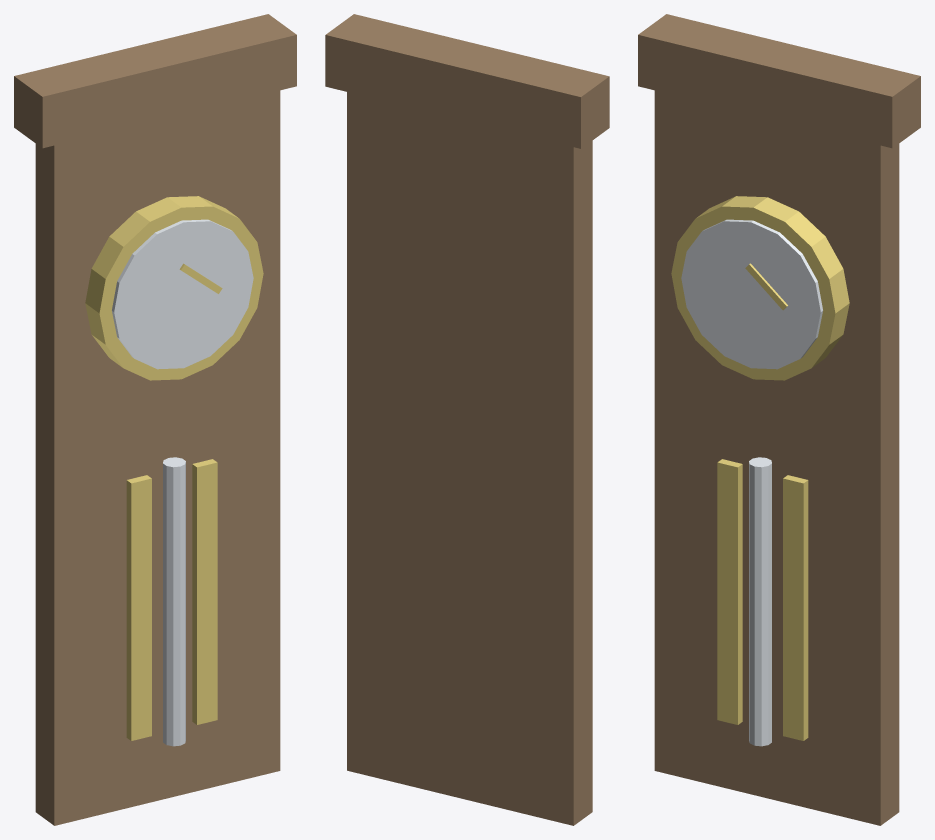
Rendered from barometer_station.glb.
3 views of the same model, side by side, from view 1: azimuth 30°, elevation 25°; view 2: azimuth 150°, elevation 25°; view 3: azimuth 330°, elevation 25° (orthographic).
Parts seen in each view (by area): view 1: Cube, Cube.001, Cylinder.001, Cylinder, Cube.003, Cube.004, Cylinder.002; view 2: Cube, Cube.001; view 3: Cube, Cube.001, Cylinder.001, Cylinder, Cube.004, Cube.003, Cylinder.002.
Boxes of the visible parts, x1,y1,x2,y2 form: Cube: (35,90,280,825); Cube.001: (14,14,296,148); Cylinder.001: (112,219,253,369); Cylinder: (85,196,263,380); Cube.003: (126,475,151,740); Cube.004: (192,459,217,724); Cylinder.002: (163,457,185,746); Cube: (347,92,592,825); Cube.001: (325,14,609,148); Cube: (654,90,899,825); Cube.001: (638,14,920,148); Cylinder.001: (681,219,822,369); Cylinder: (671,196,849,380); Cube.004: (783,475,808,740); Cube.003: (717,459,742,724); Cylinder.002: (749,457,771,746).
Size of the model in its own units: 0.62 by 1.71 by 0.186.
